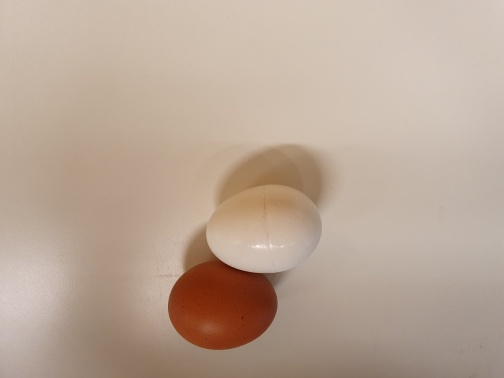egg: (204, 184, 323, 274), (169, 262, 278, 350)
